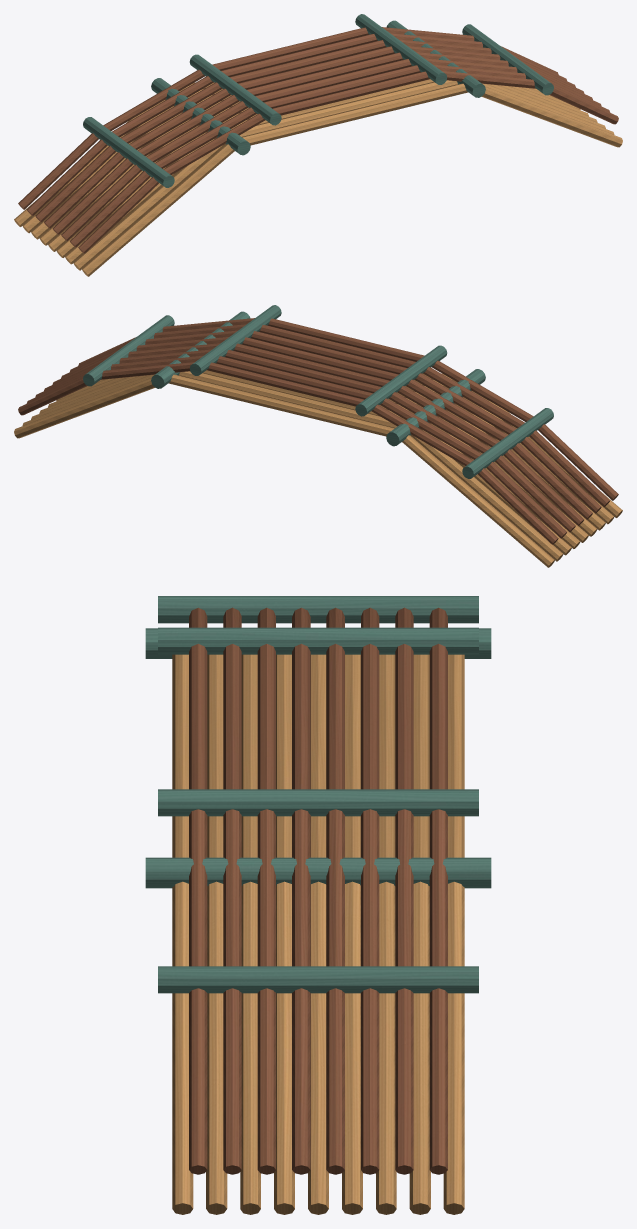
File: out-arch.glb
3 views of the same model, one above another, from view 1: azimuth 30°, elevation 25°; view 2: azimuth 150°, elevation 25°; view 3: azimuth 270°, elevation 25° (orthographic). The views are drawn at different scales.
Parts seen in each view (by area): view 1: 三节苗 1, 五节苗 10, 三节苗 2, 五节苗 17, 五节苗 12, 五节苗 15, 五节苗 11, 五节苗 13, 五节苗 16, 五节苗 14, 三节苗 3, 牛头横木 23 (+11 smaller); view 2: 三节苗 9, 五节苗 17, 三节苗 8, 五节苗 10, 五节苗 15, 五节苗 12, 五节苗 16, 五节苗 14, 五节苗 11, 五节苗 13, 三节苗 7, 牛头横木 23 (+11 smaller); view 3: 五节苗 12, 五节苗 17, 五节苗 15, 五节苗 10, 五节苗 14, 五节苗 13, 五节苗 11, 五节苗 16, 牛头横木 20, 三节苗 1, 三节苗 2, 三节苗 8 (+11 smaller).
Boxes of the visible parts, x1,y1,x2,y2 form: 三节苗 1: (82,83,622,276); 五节苗 10: (78,71,618,253); 三节苗 2: (73,80,614,270); 五节苗 17: (18,27,558,209); 五节苗 12: (61,58,601,241); 五节苗 15: (35,39,575,222); 五节苗 11: (70,64,610,247); 五节苗 13: (52,52,592,234); 五节苗 16: (27,33,566,215); 五节苗 14: (44,46,584,228); 三节苗 3: (65,79,605,264); 牛头横木 23: (83,117,174,187); 三节苗 9: (14,374,554,567); 五节苗 17: (18,362,558,544); 三节苗 8: (22,371,563,561); 五节苗 10: (78,318,618,500); 五节苗 15: (35,349,575,532); 五节苗 12: (61,330,601,513); 五节苗 16: (26,355,566,538); 五节苗 14: (44,343,584,525); 五节苗 11: (70,324,609,506); 五节苗 13: (52,337,592,519); 三节苗 7: (31,370,571,555); 牛头横木 23: (462,408,553,478); 五节苗 12: (257,607,275,1174); 五节苗 17: (429,607,447,1174); 五节苗 15: (361,607,379,1174); 五节苗 10: (189,607,207,1174); 五节苗 14: (326,607,344,1174); 五节苗 13: (292,607,310,1174); 五节苗 11: (223,607,241,1174); 五节苗 16: (395,607,413,1174); 牛头横木 20: (158,966,478,993); 三节苗 1: (172,654,193,1214); 三节苗 2: (206,654,227,1214); 三节苗 8: (409,654,430,1214).
Bounding box in the file's own units: 2.58 × 0.5651 × 0.7168.
Materials: 3 (3 with a texture image).
